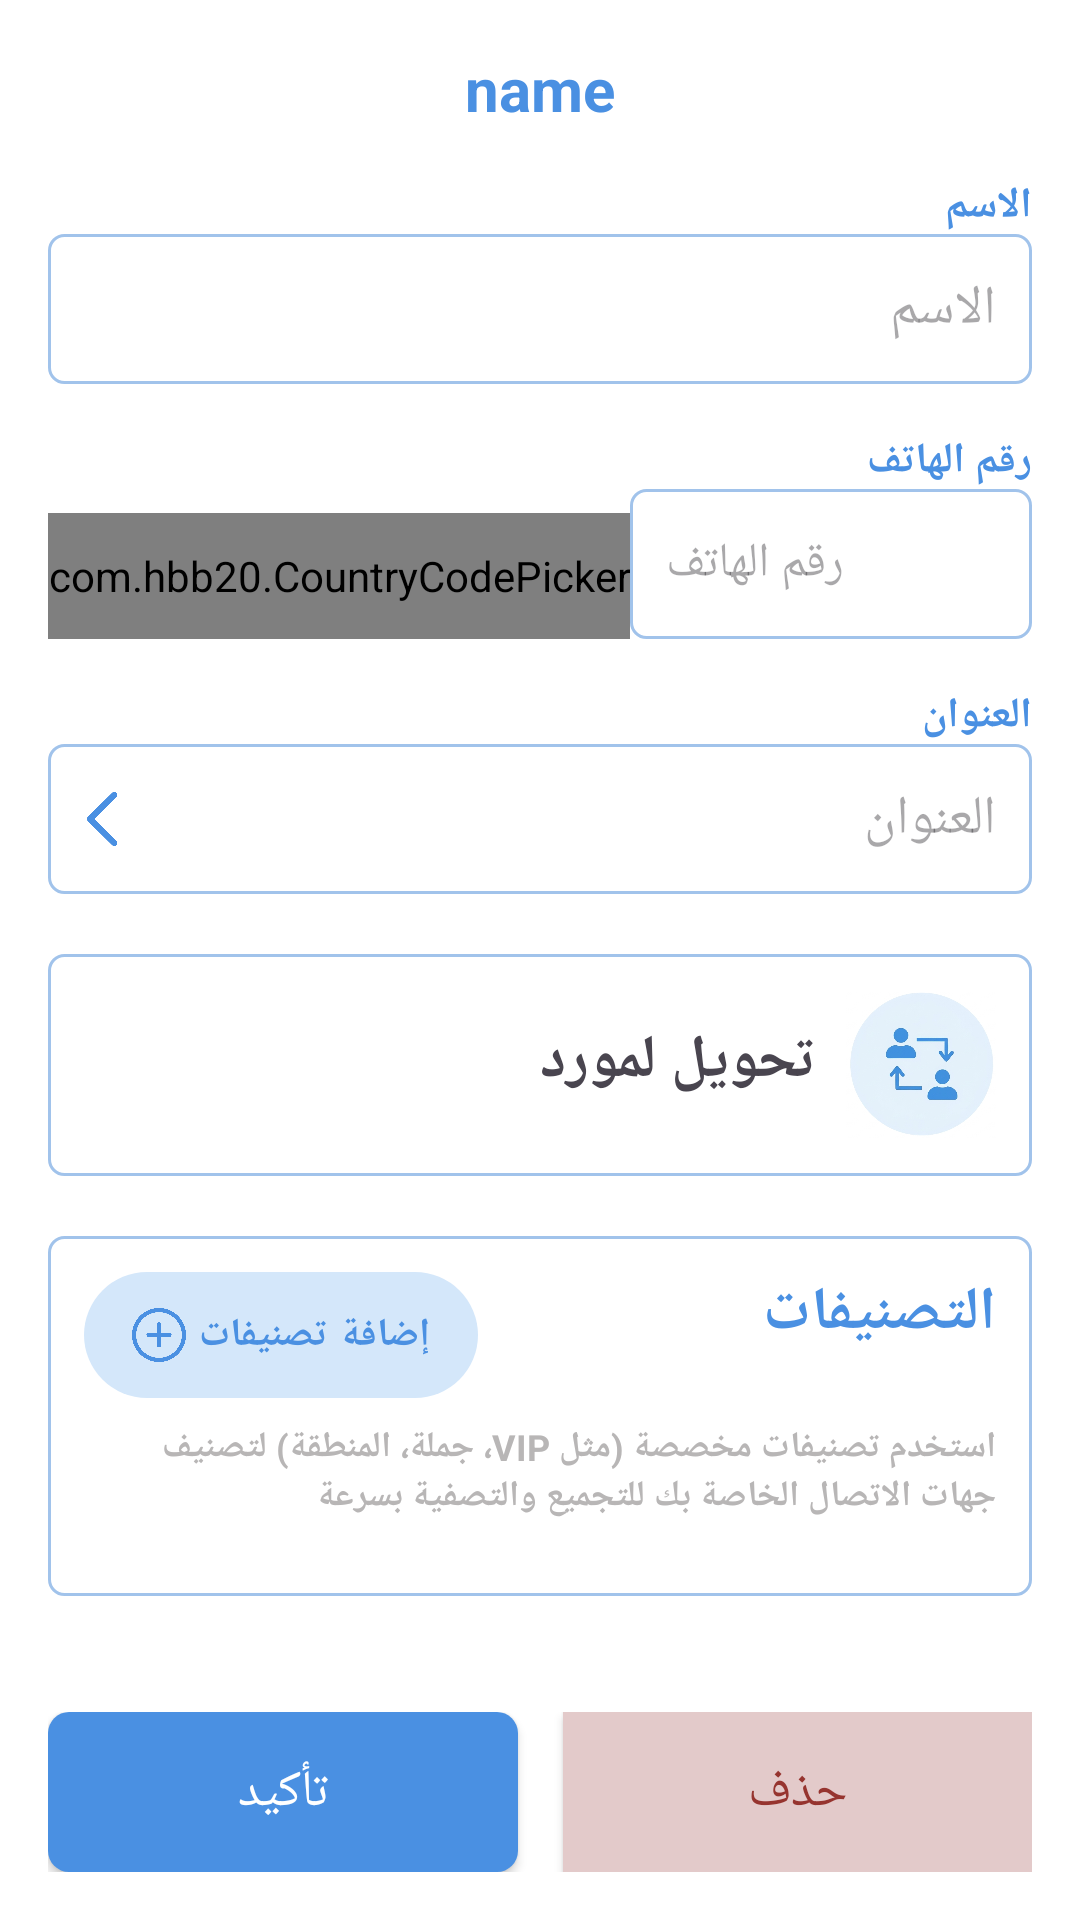

Icon click points for this 1080px×1920px phone screenshot, format (x,y):
arrow backward: (102,819)
relation: (922,1064)
